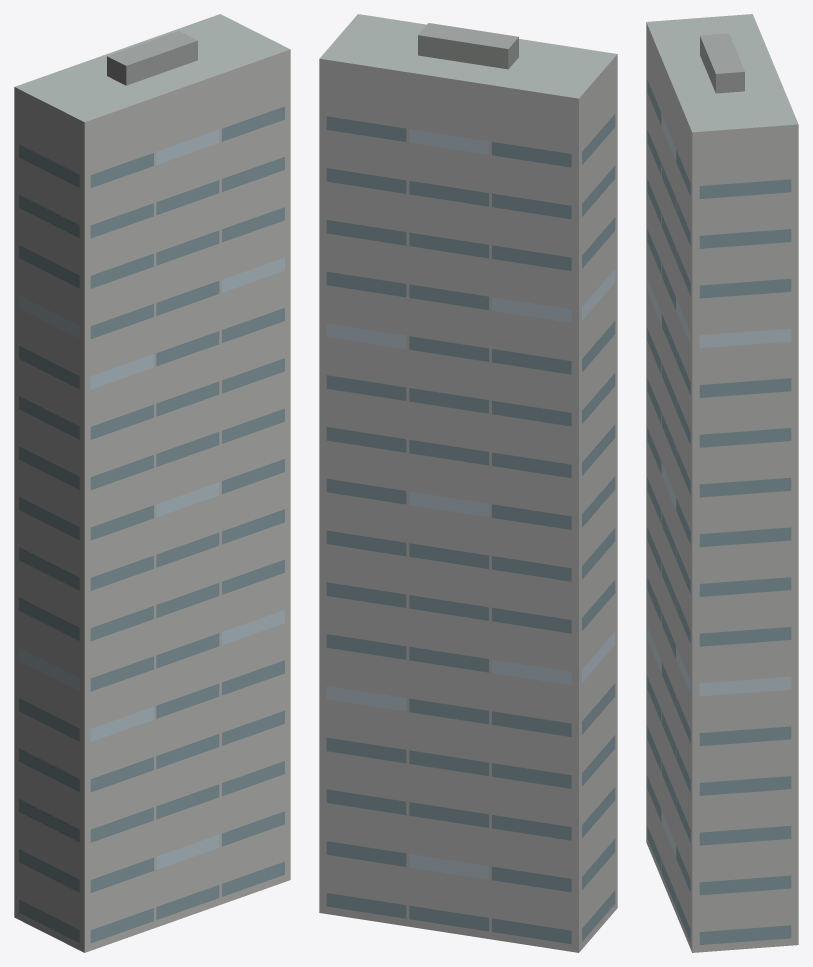
The model's file is fallback-jamsil-parkrio-207.glb.
The picture shows the model from 3 angles, left to right: view 1: azimuth 30°, elevation 25°; view 2: azimuth 150°, elevation 25°; view 3: azimuth 270°, elevation 25°; orthographic projection. The views are drawn at different scales.
Visible parts, largest first — view 1: fallback-jamsil-parkrio-207; view 2: fallback-jamsil-parkrio-207; view 3: fallback-jamsil-parkrio-207.
Boxes of the visible parts, x1,y1,x2,y2 form: fallback-jamsil-parkrio-207: (14,14,290,952); fallback-jamsil-parkrio-207: (319,14,617,952); fallback-jamsil-parkrio-207: (646,14,798,952).
Bounding box in the file's own units: 31.14 × 103 × 16.93.
